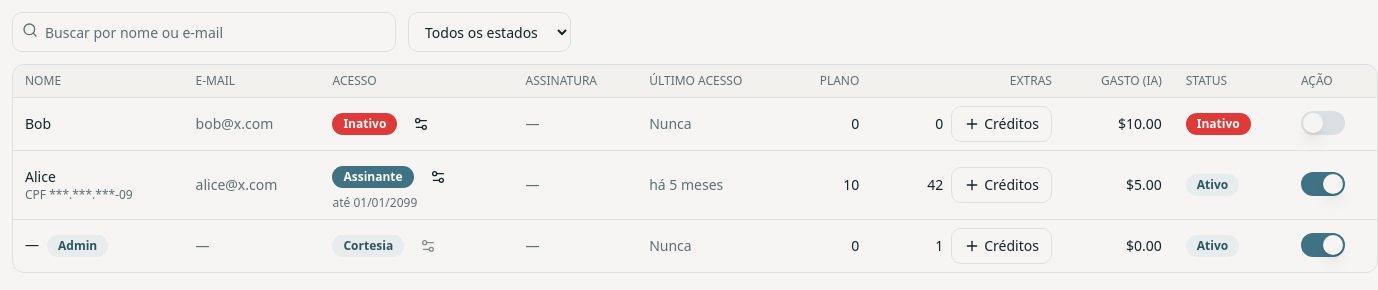
UsersTable › shows an empty state when nothing matches
Step 1. Type "zzz" into the field with placeholder "Buscar por nome ou e-mail" → (204, 32), box [12, 12, 396, 52]
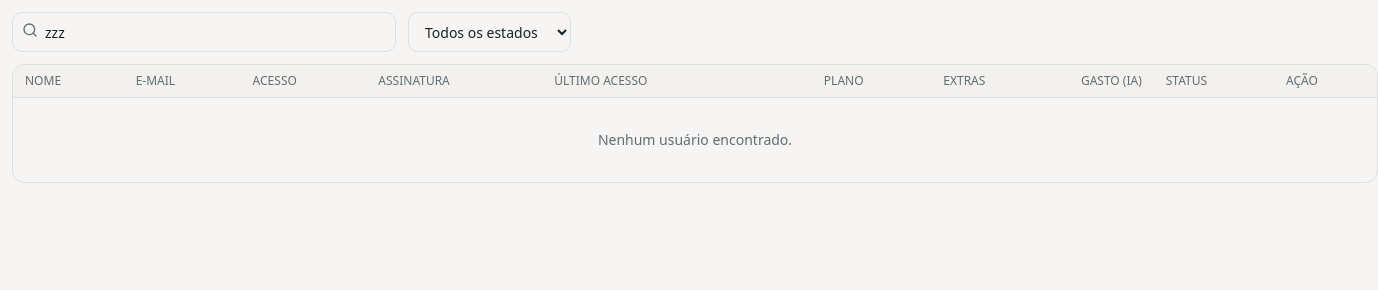
Check: the text "Nenhum usuário encontrado." is shown, box [13, 98, 1377, 182]
